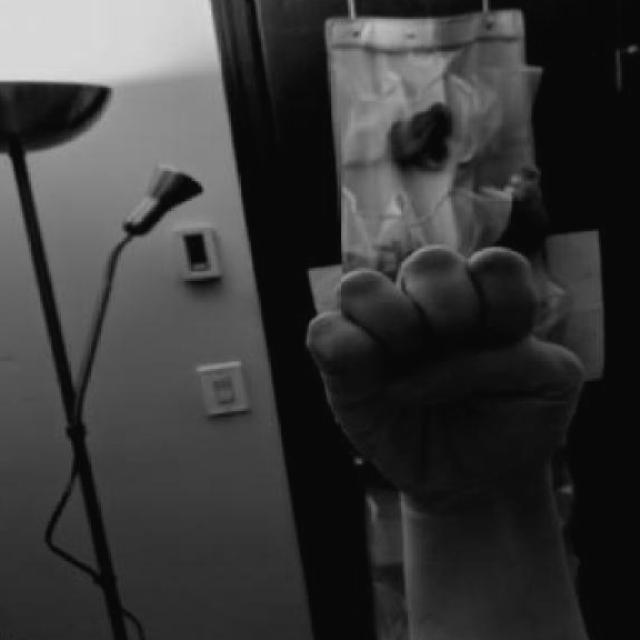E: (287, 222, 611, 539)
